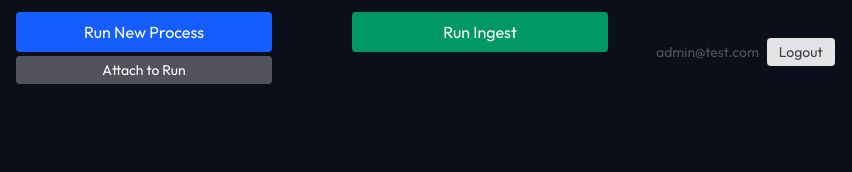
Scenario: AdminActions › shows a message when attaching and no run is in progress
What coordinates should you click on to do the following:
click the button "Attach to Run"
I would click on:
 (144, 70)
Its box is top-left (16, 56), bottom-right (272, 84).
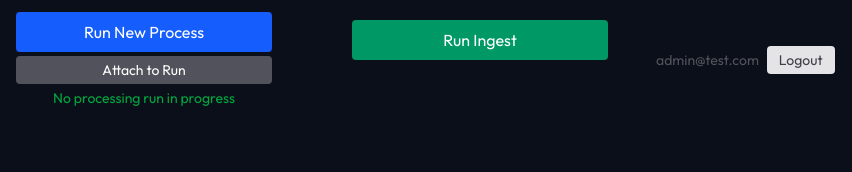
Expected: the text "No processing run in progress" is shown, top-left (53, 88), bottom-right (235, 108)
